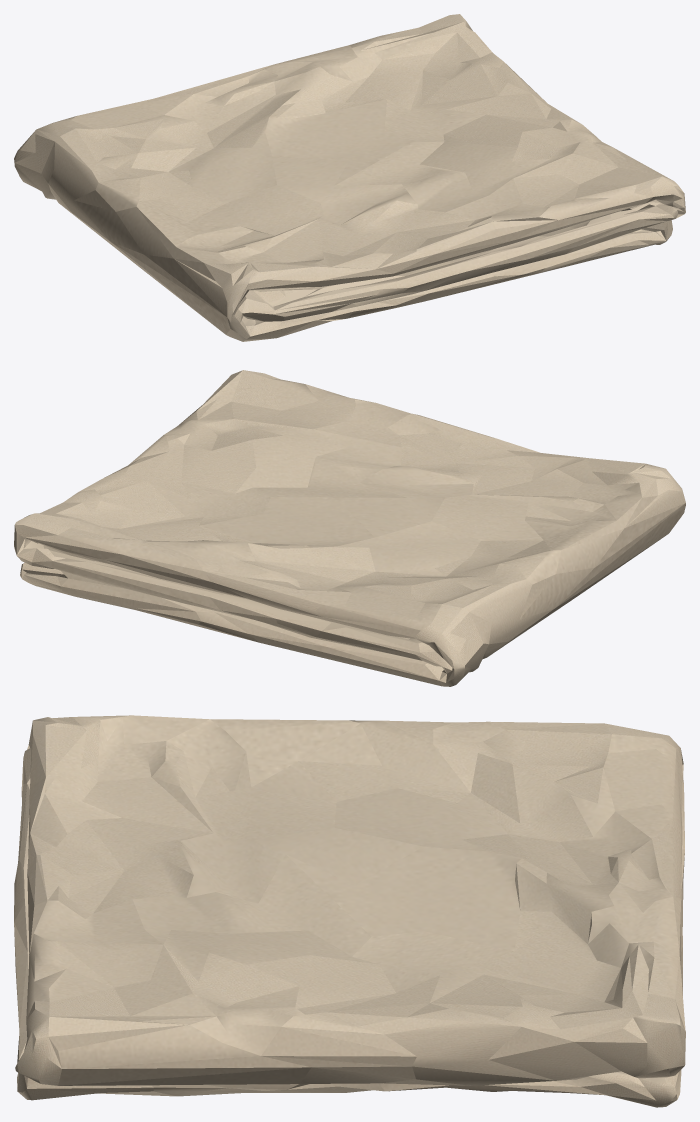
File: remeshed-cloth.glb
3 renders of one model, top to bottom at view 1: azimuth 30°, elevation 25°; view 2: azimuth 150°, elevation 25°; view 3: azimuth 270°, elevation 25°, orthographic. The views are drawn at different scales.
Visible parts, largest first — view 1: output_unwrapped; view 2: output_unwrapped; view 3: output_unwrapped.
Boxes of the visible parts, x1,y1,x2,y2 form: output_unwrapped: (14,14,685,341); output_unwrapped: (14,370,685,686); output_unwrapped: (14,715,685,1107).
Bounding box in the file's own units: 1.9 × 0.261 × 1.66.
1 material, 1 textured.
